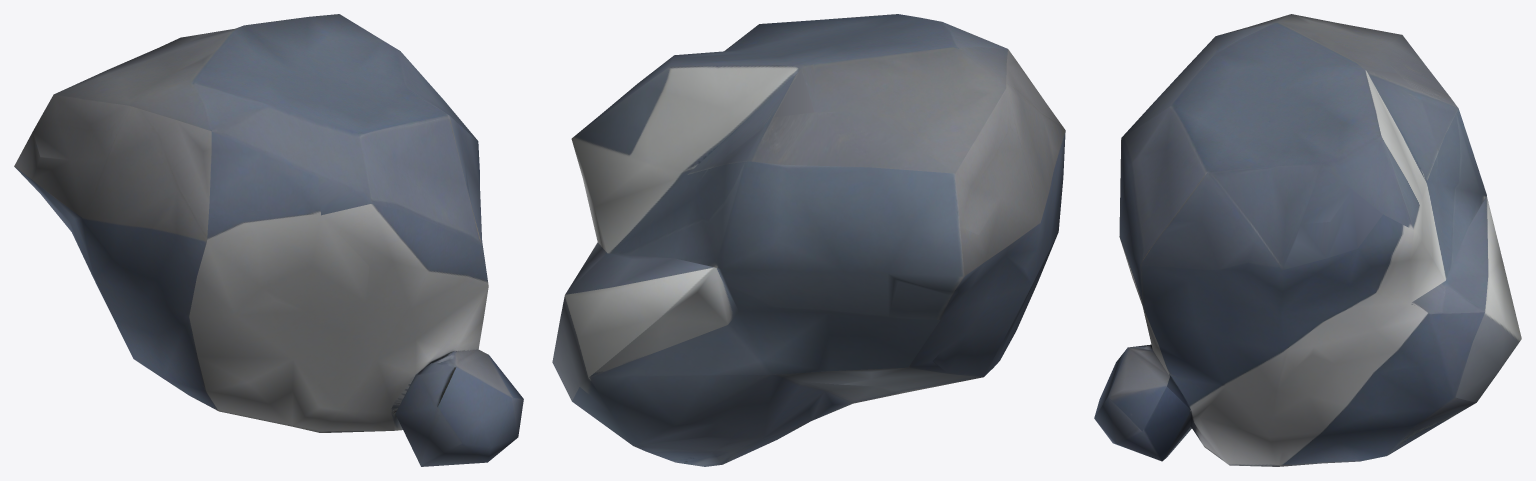
The model's file is IronStone.fbx.
The picture shows the model from 3 angles, left to right: view 1: azimuth 30°, elevation 25°; view 2: azimuth 150°, elevation 25°; view 3: azimuth 270°, elevation 25°; orthographic projection. The views are drawn at different scales.
Parts seen in each view (by area): view 1: Mesh_0; view 2: Mesh_0; view 3: Mesh_0.
Part boxes in pixels (x1,y1,x2,y2): Mesh_0: (14,14,523,466); Mesh_0: (552,14,1065,466); Mesh_0: (1094,14,1521,466).
Bounding box in the file's own units: 187 × 185 × 200.
